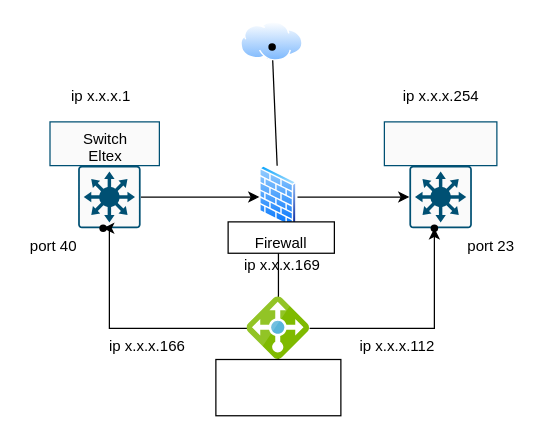
This 543x439 diagram has some shape labels left out. Here are the shapes that lost their labels. From the top down, the centre of each, then its label:
At (440,143): "Switch Extreme".
At (278,387): "HV 1000 СМЭВ\ЕКЦ".
